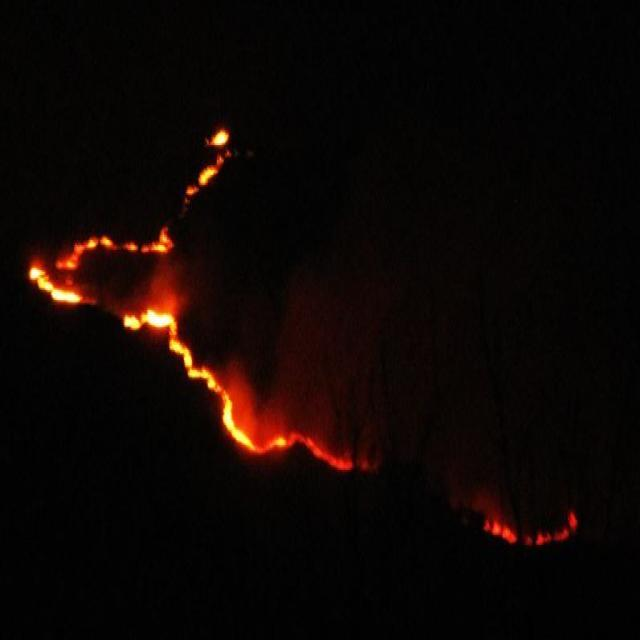Fire: (26, 113, 363, 482), (468, 473, 582, 557)
